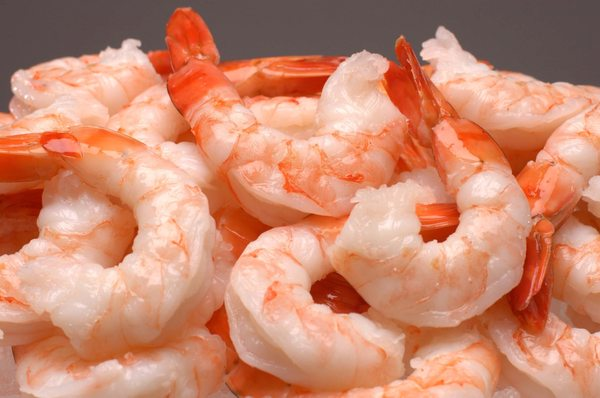salad: (0, 125, 224, 383)
